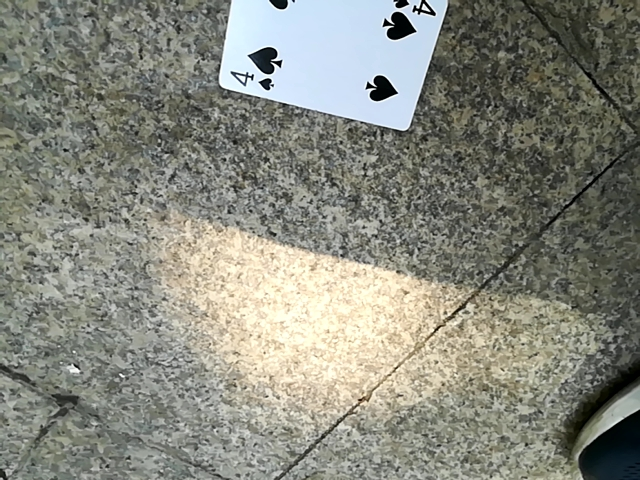ht 4: (211, 1, 452, 139)
